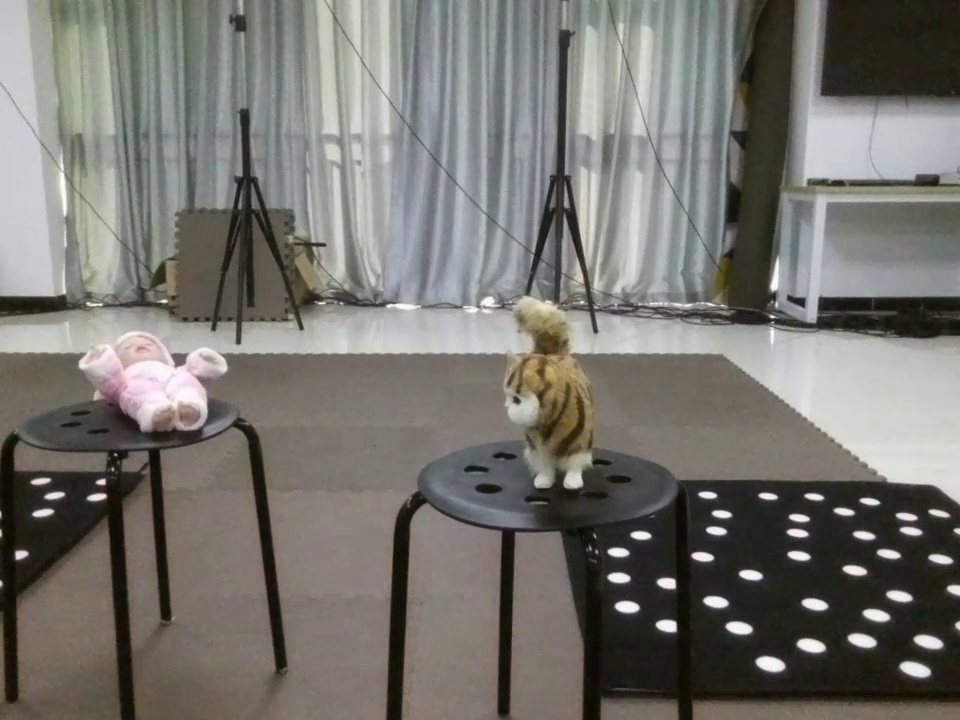cat: (464, 289, 647, 495)
